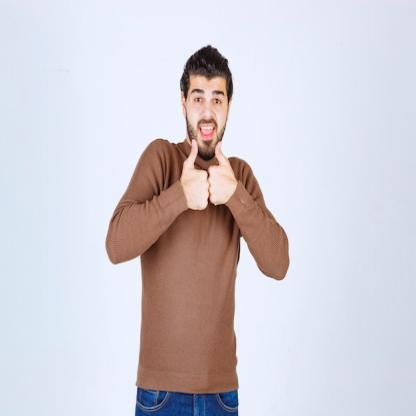thumb_up: (180, 137, 210, 214), (208, 140, 238, 209)
